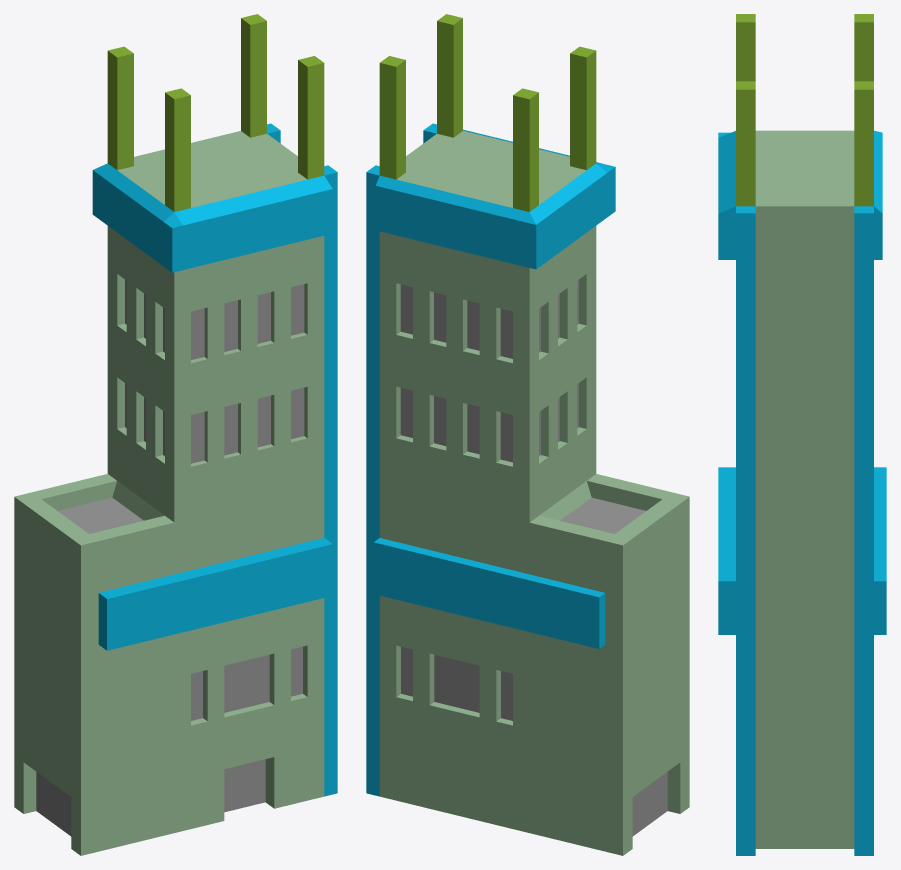
The picture shows the model from 3 angles, left to right: view 1: azimuth 30°, elevation 25°; view 2: azimuth 150°, elevation 25°; view 3: azimuth 270°, elevation 25°; orthographic projection. The views are drawn at different scales.
Parts seen in each view (by area): view 1: Box001_Part_6, Box001_Part_1, Box001_Part_3, Box001_Part_2, Box001_Part_5, Box001_Part_4; view 2: Box001_Part_1, Box001_Part_6, Box001_Part_3, Box001_Part_4, Box001_Part_5, Box001_Part_2; view 3: Box001_Part_1, Box001_Part_2, Box001_Part_4, Box001_Part_6, Box001_Part_5.
Part boxes in pixels (x1,y1,x2,y2): Box001_Part_6: (92,92,274,536); Box001_Part_1: (107,14,337,507); Box001_Part_3: (14,632,286,855); Box001_Part_2: (151,526,337,805); Box001_Part_5: (14,475,192,657); Box001_Part_4: (101,460,337,570); Box001_Part_1: (366,14,591,493); Box001_Part_6: (454,49,615,508); Box001_Part_3: (423,610,689,855); Box001_Part_4: (366,459,548,660); Box001_Part_5: (536,474,689,691); Box001_Part_2: (366,607,540,806); Box001_Part_1: (718,14,882,560); Box001_Part_2: (718,510,873,855); Box001_Part_4: (735,498,886,663); Box001_Part_6: (718,14,882,155); Box001_Part_5: (718,467,886,512).
Size of the model in its own units: 395 by 1077 by 216.
